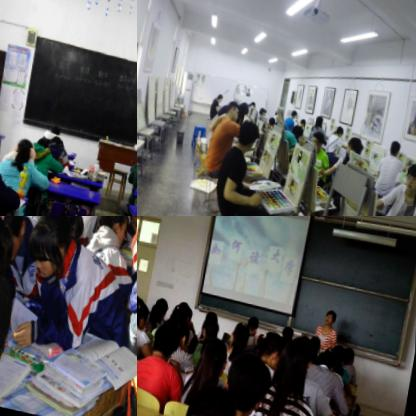head: (22, 216, 78, 285), (225, 341, 273, 413), (274, 330, 314, 392), (184, 376, 242, 416), (196, 329, 231, 378), (255, 318, 289, 365), (151, 315, 183, 360), (0, 216, 30, 262), (96, 216, 131, 248), (0, 216, 17, 277), (235, 113, 261, 152), (14, 135, 40, 164), (171, 312, 193, 345), (230, 314, 251, 345), (346, 129, 366, 158), (175, 295, 195, 323), (401, 151, 416, 188), (322, 338, 340, 368), (137, 294, 152, 328), (202, 312, 219, 336), (224, 98, 242, 120), (245, 307, 260, 332), (155, 290, 170, 314), (333, 334, 348, 357), (344, 335, 358, 359), (308, 326, 323, 348), (280, 317, 297, 336), (34, 131, 50, 151), (311, 125, 326, 146), (150, 298, 165, 319), (49, 131, 65, 150), (388, 133, 404, 151), (204, 305, 219, 324), (323, 299, 337, 319), (238, 95, 251, 113), (334, 118, 346, 134), (50, 121, 61, 136), (315, 110, 326, 124), (290, 104, 298, 118), (269, 112, 277, 125), (216, 90, 223, 100), (260, 103, 267, 113), (299, 114, 306, 123)
